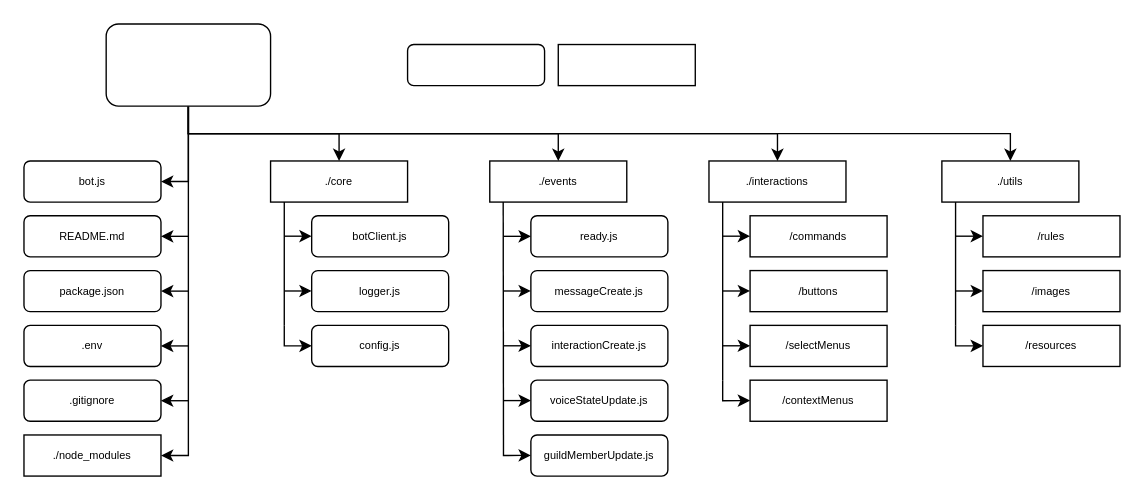
Some shapes in this 1144 by 500 pixel diagram are drawn without their labels. Here are the shapes that lost their labels. From the top down, the centre of each, then its label:
pixel 188 64: Wall-E
pixel 475 64: File
pixel 626 64: Folder
